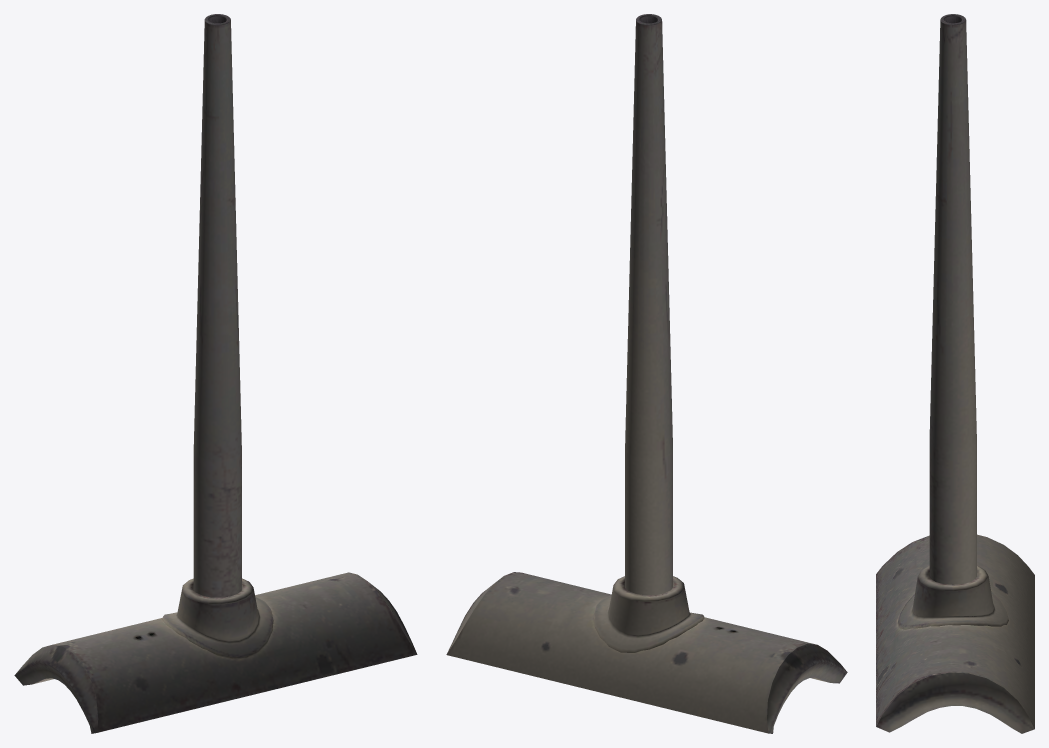
Rendered from Gun_06.glb.
3 renders of one model, left to right at view 1: azimuth 30°, elevation 25°; view 2: azimuth 150°, elevation 25°; view 3: azimuth 270°, elevation 25°, orthographic. The views are drawn at different scales.
Visible parts, largest first — view 1: set_0_group_0; view 2: set_0_group_0; view 3: set_0_group_0.
Boxes of the visible parts, x1=… form: set_0_group_0: x1=14, y1=14, x2=417, y2=733; set_0_group_0: x1=446, y1=14, x2=847, y2=733; set_0_group_0: x1=876, y1=14, x2=1034, y2=733.
Size of the model in its own units: 1.54 by 2.97 by 0.6704.
1 material, 1 textured.
